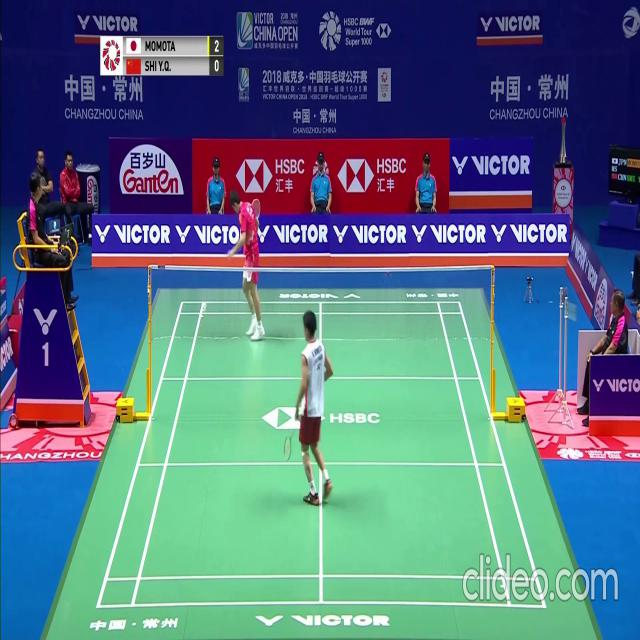Shuttlecock: (203, 301, 208, 308)
